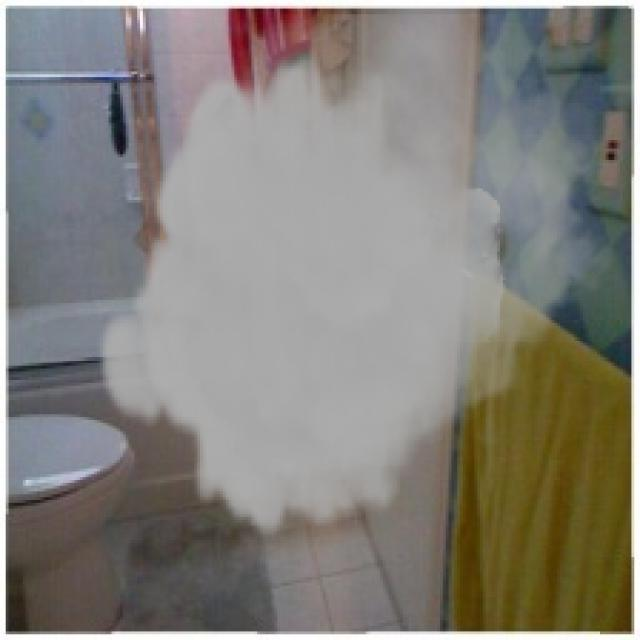Smoke: (94, 14, 617, 540)
